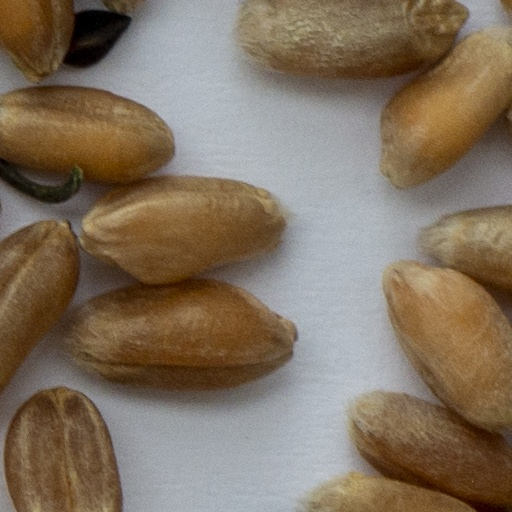Fallopia-Convolvulus-poly: (65, 10, 128, 64)
